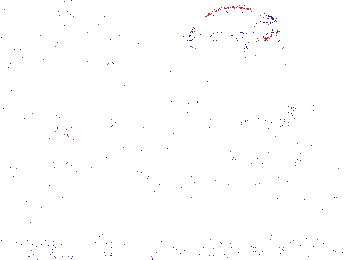moon jellyfish: (256, 110, 324, 183), (186, 6, 280, 52), (168, 81, 241, 139), (60, 9, 121, 72), (4, 1, 63, 63)
